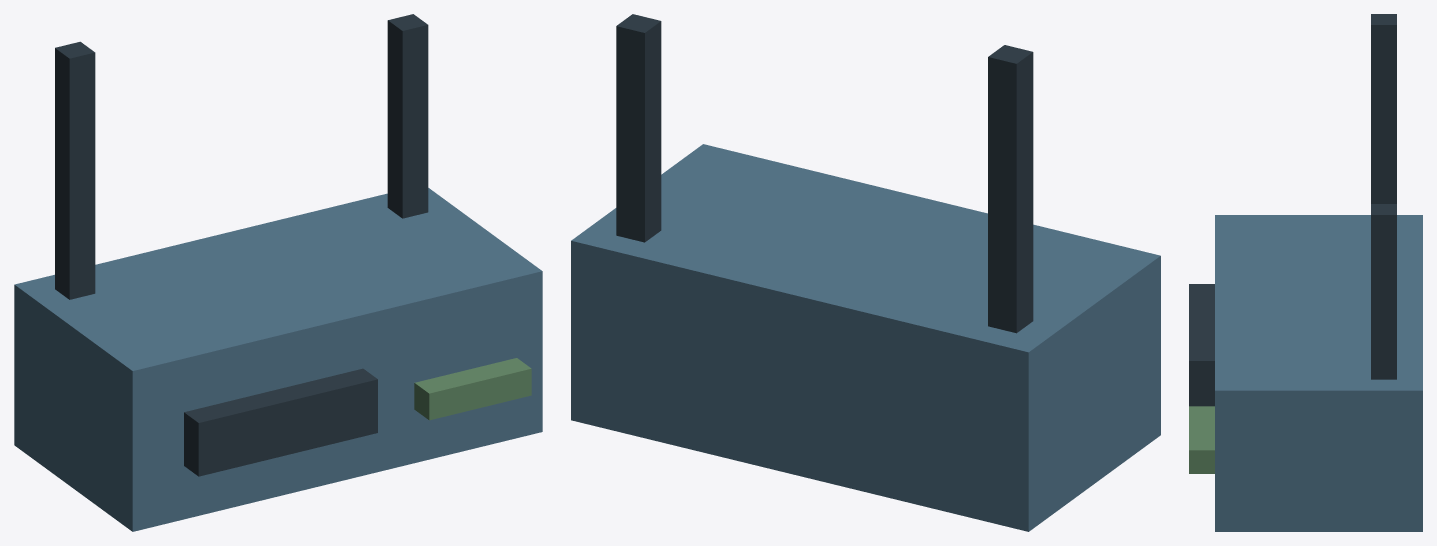
Rendered from security-18.glb.
3 renders of one model, left to right at view 1: azimuth 30°, elevation 25°; view 2: azimuth 150°, elevation 25°; view 3: azimuth 270°, elevation 25°, orthographic. The views are drawn at different scales.
Parts seen in each view (by area): view 1: Bug detector; view 2: Bug detector; view 3: Bug detector.
Boxes of the visible parts, left/top/right/bottom form: Bug detector: left=14, top=14, right=542, bottom=531; Bug detector: left=571, top=14, right=1160, bottom=531; Bug detector: left=1189, top=14, right=1422, bottom=531.
Size of the model in its own units: 1.28 by 1.2 by 0.72.
